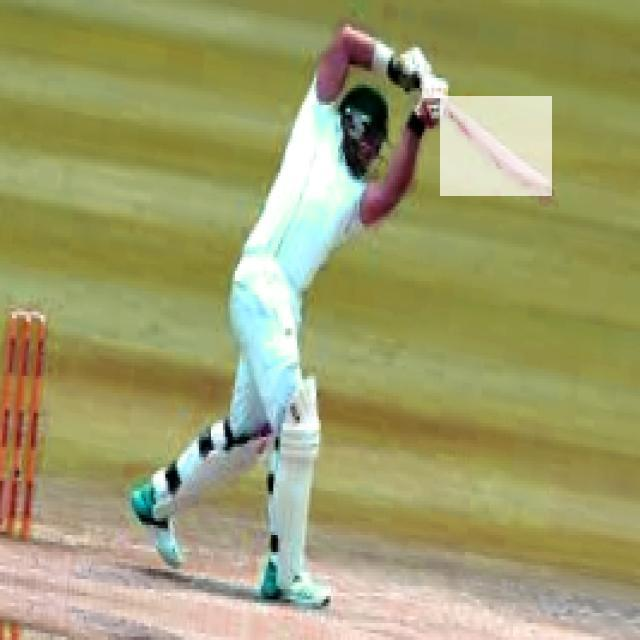bat: (439, 96, 551, 195)
toe: (540, 186, 557, 203)
